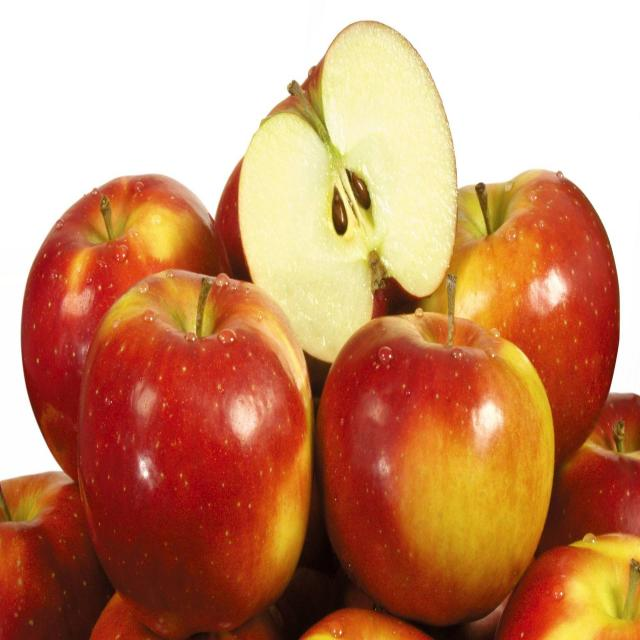apple: (70, 264, 316, 629), (215, 17, 459, 371), (318, 321, 556, 623), (19, 170, 229, 487), (420, 156, 621, 471), (0, 468, 112, 640), (527, 382, 640, 546), (497, 539, 640, 640), (81, 582, 288, 640), (296, 598, 444, 640)
